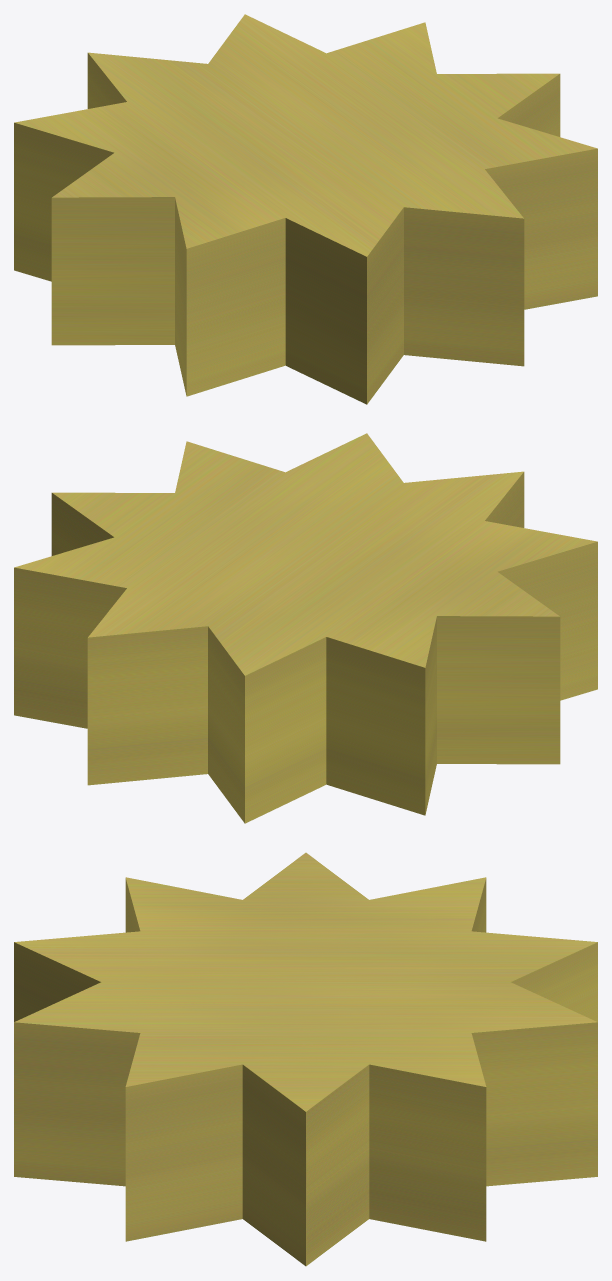
Rendered from ClockStraight010.fbx.
The picture shows the model from 3 angles, top to bottom: view 1: azimuth 30°, elevation 25°; view 2: azimuth 150°, elevation 25°; view 3: azimuth 270°, elevation 25°; orthographic projection. The views are drawn at different scales.
Visible parts, largest first — view 1: ClockStraight010; view 2: ClockStraight010; view 3: ClockStraight010.
Boxes of the visible parts, bbox=[...] form: ClockStraight010: bbox=[14, 14, 597, 404]; ClockStraight010: bbox=[14, 433, 597, 823]; ClockStraight010: bbox=[14, 852, 597, 1266].
Bounding box in the file's own units: 70.87 × 19.69 × 67.4.
